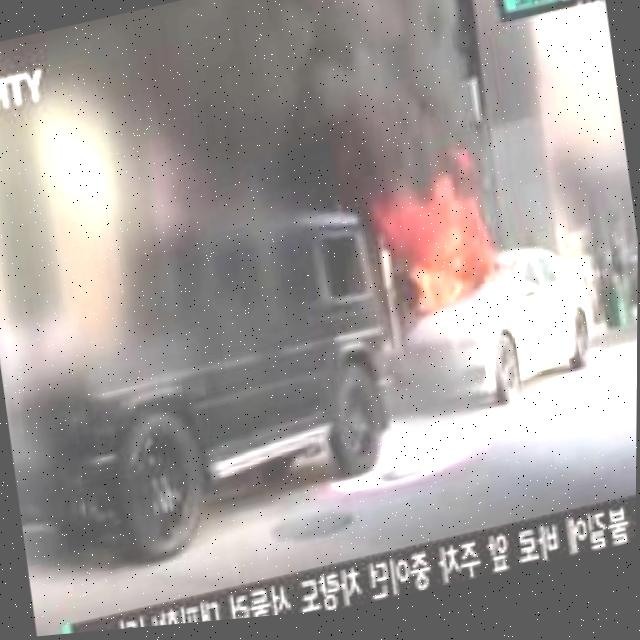Fire: (397, 201, 496, 323)
Smoke: (262, 0, 500, 234)
